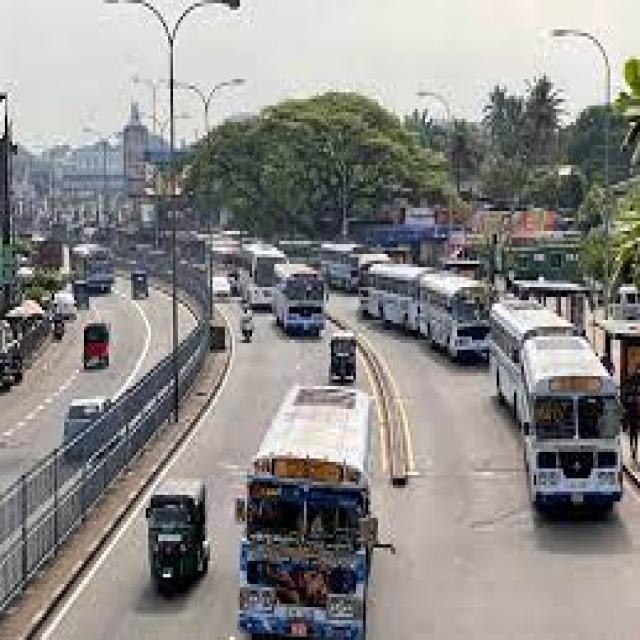bus: (240, 383, 376, 637), (519, 336, 618, 501), (489, 300, 571, 419), (420, 271, 484, 356), (274, 264, 321, 333), (383, 267, 430, 333), (242, 241, 284, 307), (321, 241, 363, 290), (358, 254, 388, 317), (74, 244, 111, 290)
car: (64, 396, 109, 442)
motorcycle: (240, 307, 252, 343)
three wheeler: (146, 478, 208, 591), (329, 336, 353, 379), (84, 323, 106, 369), (133, 271, 146, 297), (74, 280, 86, 307)
